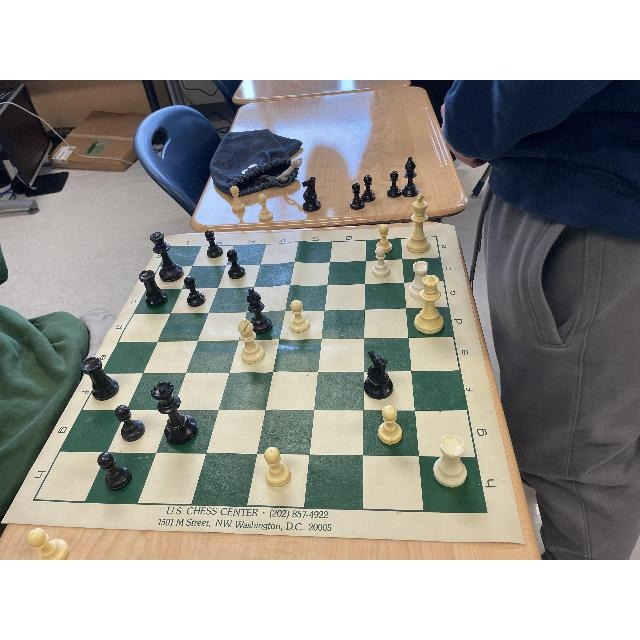black-pawn: (97, 452, 138, 491), (112, 406, 147, 442), (180, 275, 206, 307), (222, 245, 247, 278)
black-rook: (153, 377, 199, 444), (361, 354, 402, 402), (81, 356, 121, 398), (150, 234, 181, 282), (245, 289, 272, 331), (138, 271, 168, 306), (201, 230, 223, 256)
white-bishop: (430, 432, 470, 489), (368, 230, 392, 280)
white-king: (414, 266, 448, 334)
white-knight: (404, 205, 437, 256)
white-pawn: (255, 446, 291, 496), (233, 314, 265, 369), (374, 408, 407, 446), (284, 295, 312, 337)
